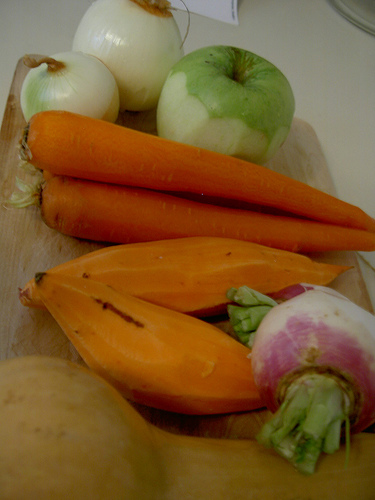turnip: (250, 285, 373, 478)
